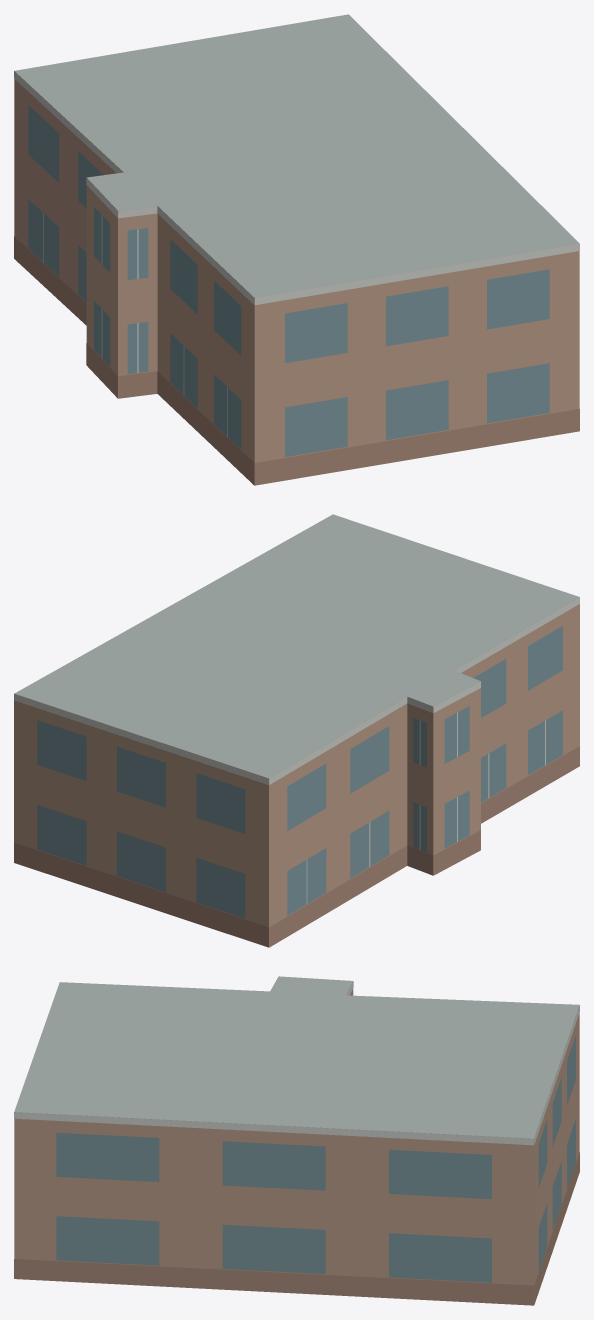
The model's file is survey-upis-32590182.glb.
The picture shows the model from 3 angles, top to bottom: view 1: azimuth 30°, elevation 25°; view 2: azimuth 150°, elevation 25°; view 3: azimuth 270°, elevation 25°; orthographic projection. The views are drawn at different scales.
Visible parts, largest first — view 1: survey-upis-32590182.tmp; view 2: survey-upis-32590182.tmp; view 3: survey-upis-32590182.tmp.
Part boxes in pixels (x1,y1,x2,y2): survey-upis-32590182.tmp: [14, 14, 579, 485]; survey-upis-32590182.tmp: [14, 514, 579, 947]; survey-upis-32590182.tmp: [14, 976, 579, 1305].
Size of the model in its own units: 12.74 by 6.1 by 18.75.
